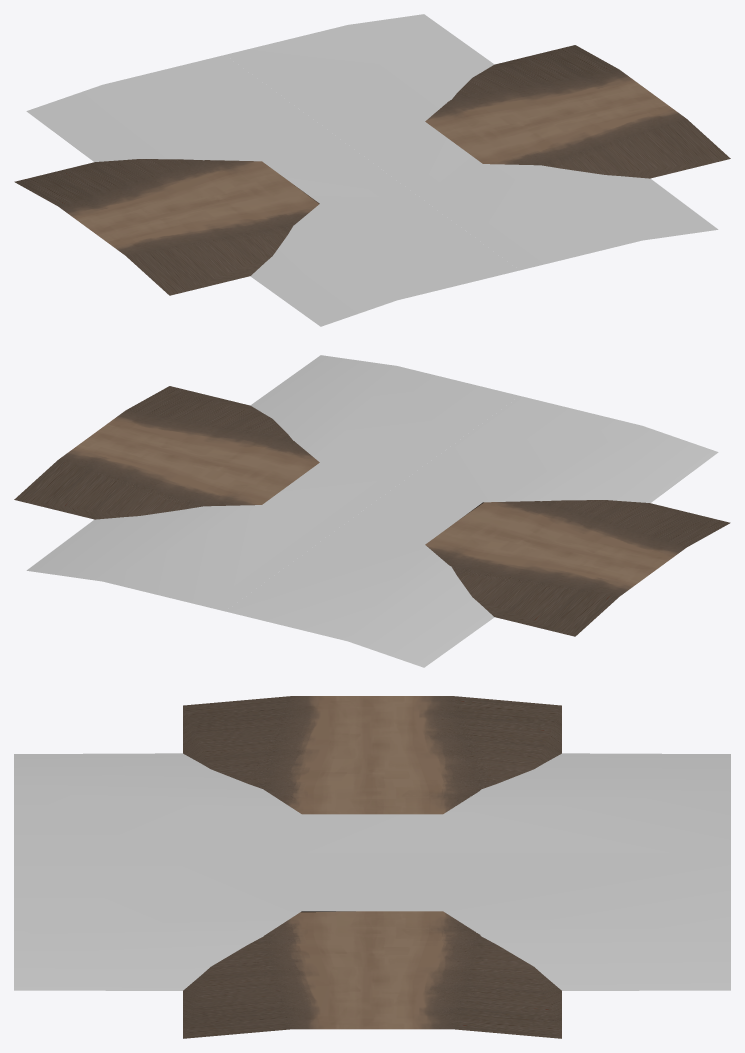
Rendered from Asphalt_UnsealedCross.fbx.
3 renders of one model, top to bottom at view 1: azimuth 30°, elevation 25°; view 2: azimuth 150°, elevation 25°; view 3: azimuth 270°, elevation 25°, orthographic. The views are drawn at different scales.
Visible parts, largest first — view 1: Asphalt_UnsealedCross; view 2: Asphalt_UnsealedCross; view 3: Asphalt_UnsealedCross.
Part boxes in pixels (<box>): Asphalt_UnsealedCross: <box>14,14,730,326</box>; Asphalt_UnsealedCross: <box>14,355,730,667</box>; Asphalt_UnsealedCross: <box>14,696,730,1038</box>.
Bounding box in the file's own units: 3300 × 43.93 × 3000.
